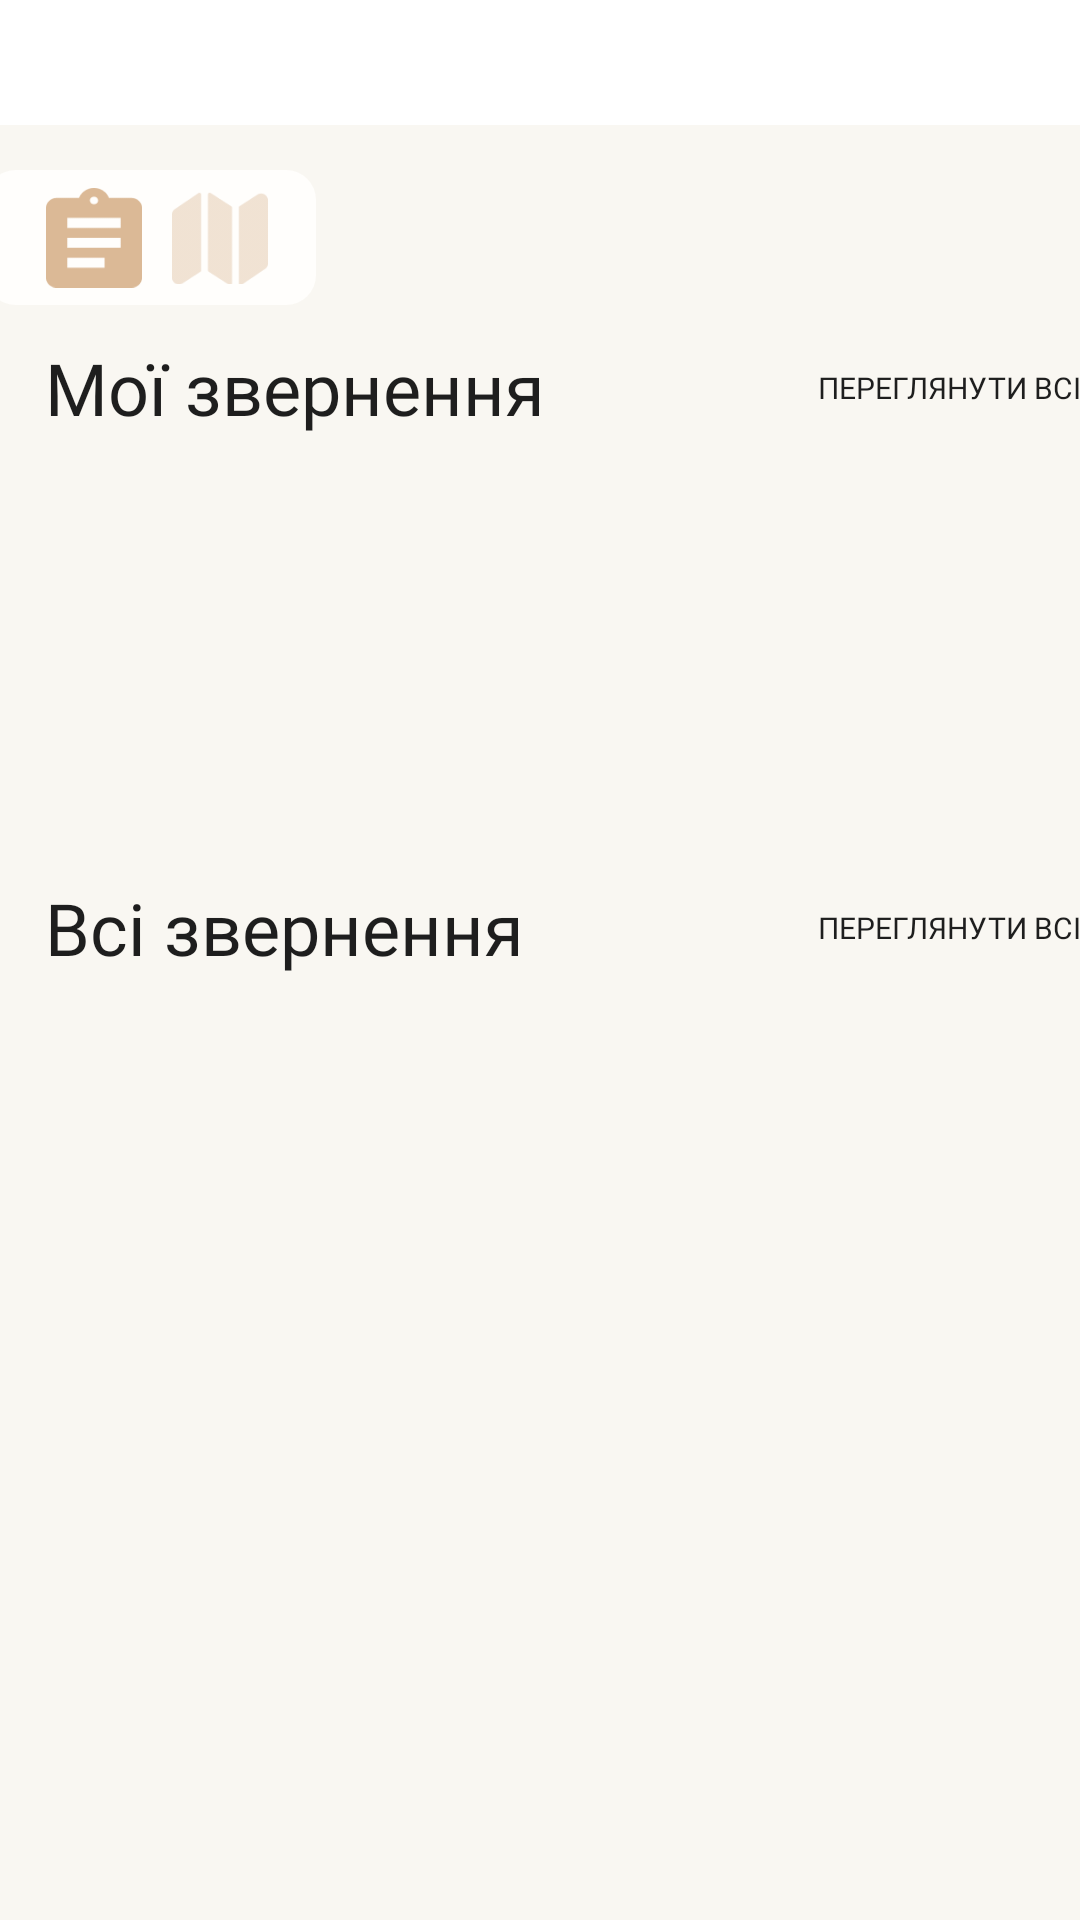

Named icons in this screenshot (1080x1920) and their bounding boxes, bbox=[x1, y1, x2, y2]:
list: bbox=[46, 188, 142, 288]
map: bbox=[172, 193, 268, 284]
